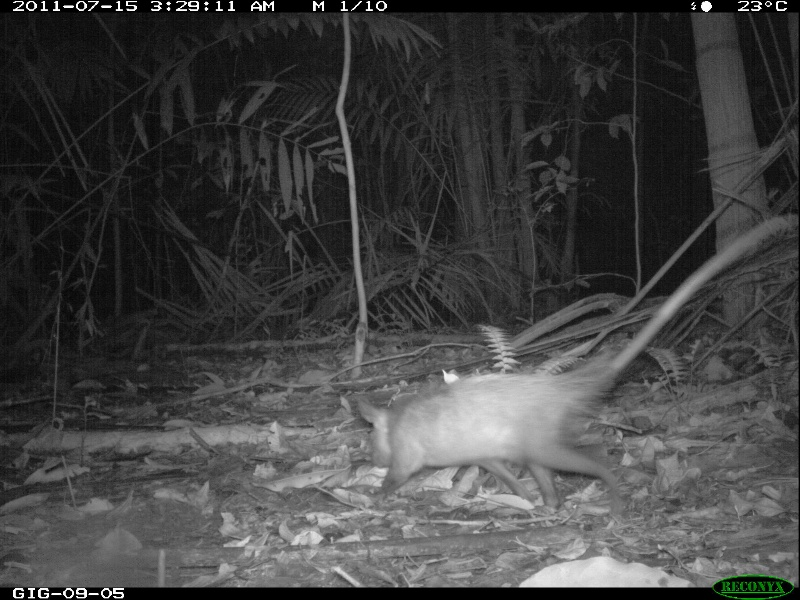opossum: (345, 213, 788, 502)
